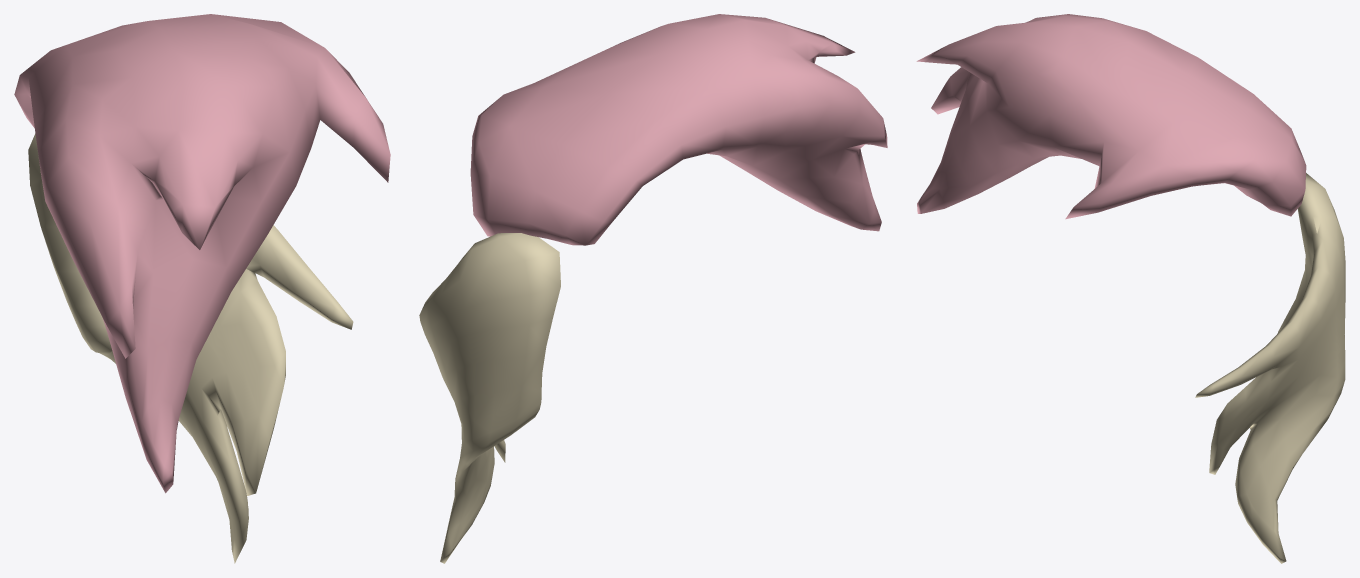
The model's file is Mane_12.fbx.
3 renders of one model, left to right at view 1: azimuth 30°, elevation 25°; view 2: azimuth 150°, elevation 25°; view 3: azimuth 270°, elevation 25°, orthographic. The views are drawn at different scales.
Parts seen in each view (by area): view 1: Mane_12; view 2: Mane_12; view 3: Mane_12.
Part boxes in pixels (<box>): Mane_12: <box>14,14,390,563</box>; Mane_12: <box>419,14,887,563</box>; Mane_12: <box>916,14,1345,563</box>.
Size of the model in its own units: 1.6 by 2.43 by 2.03.
